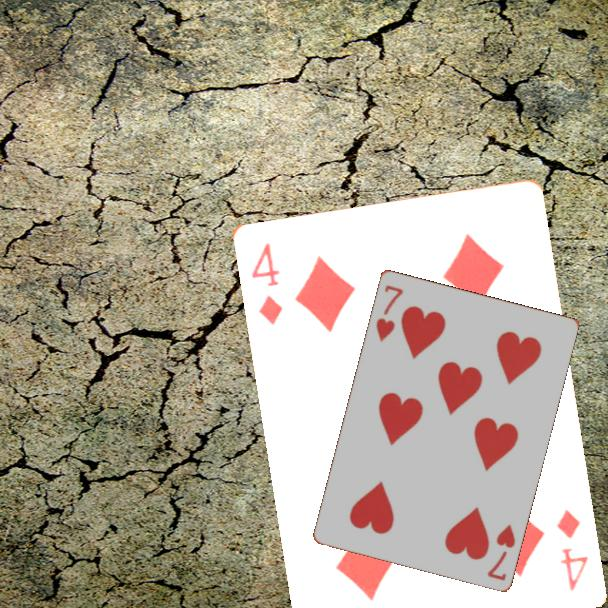d04: (247, 239, 285, 328), (552, 506, 590, 593)
h07: (372, 281, 406, 344), (484, 520, 518, 583)
